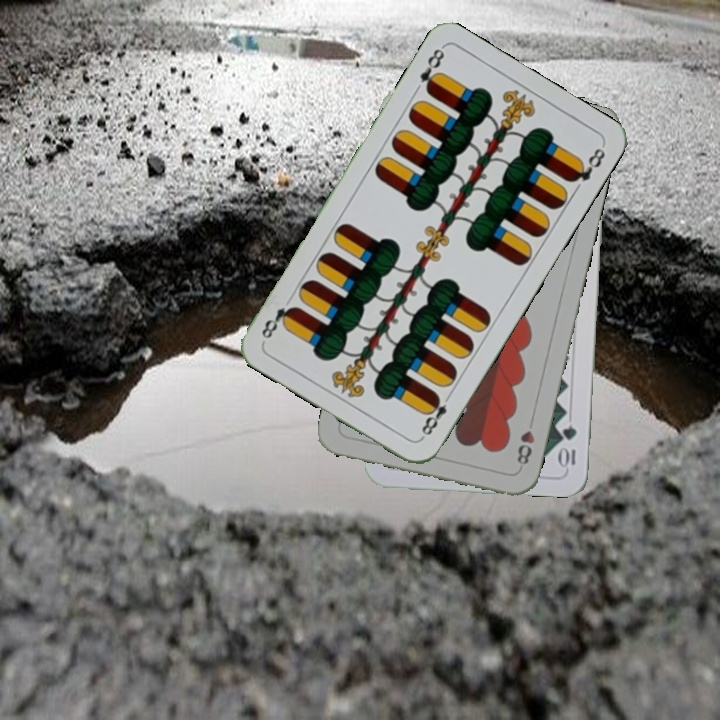E8: (417, 389, 455, 441), (415, 43, 448, 97)
G10: (558, 421, 579, 471)
H8: (513, 427, 537, 468)
